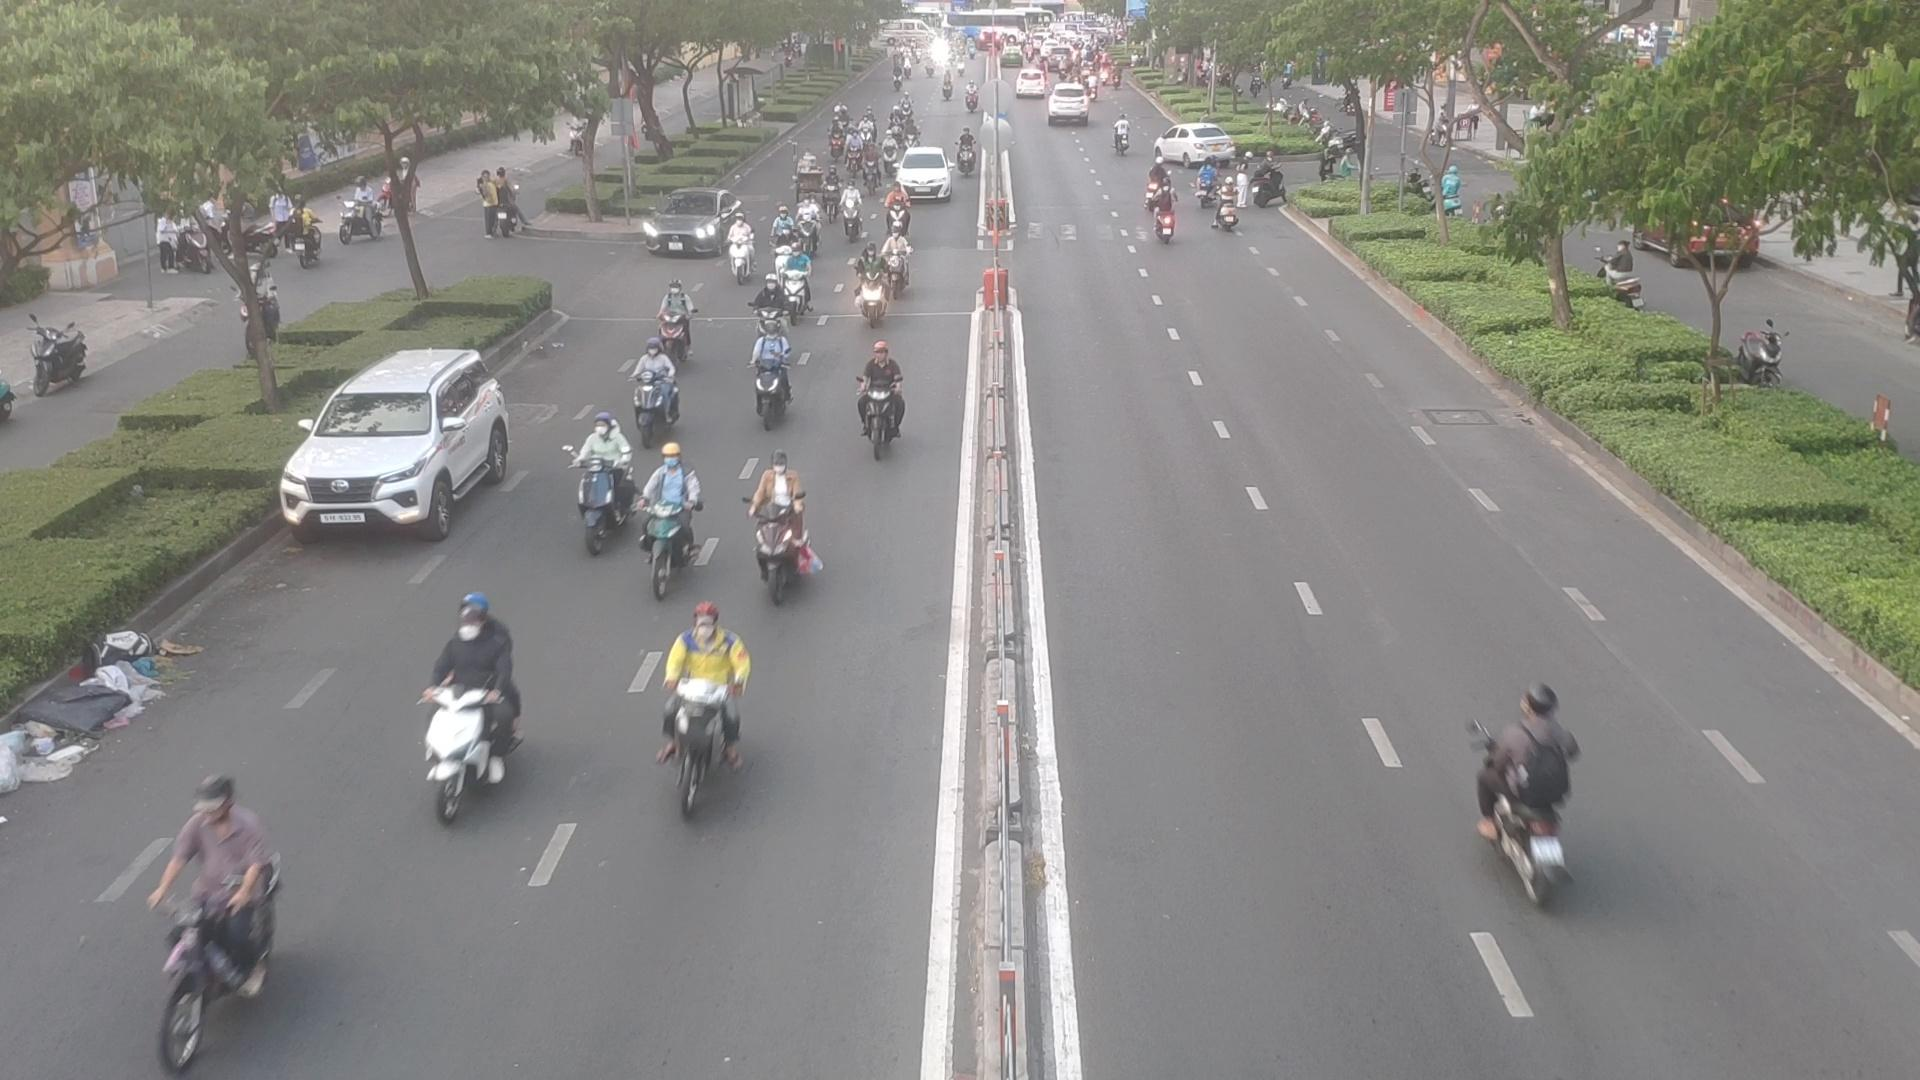car: (277, 345, 517, 539), (637, 190, 740, 258), (1156, 117, 1236, 171), (894, 146, 956, 196)
motorbike: (131, 764, 266, 1080), (1480, 671, 1577, 898), (419, 601, 516, 814), (742, 440, 808, 618), (666, 607, 725, 794), (570, 406, 634, 564), (640, 443, 709, 587), (622, 345, 680, 443), (866, 345, 903, 463), (847, 237, 886, 326), (752, 319, 783, 426), (654, 280, 688, 352), (725, 215, 752, 295), (881, 229, 914, 293), (785, 243, 810, 322), (758, 278, 786, 348), (1154, 181, 1180, 243), (1217, 177, 1241, 231), (843, 178, 862, 243), (1145, 162, 1174, 206), (884, 185, 907, 237), (955, 125, 976, 178), (803, 189, 822, 247), (1196, 162, 1216, 208), (843, 133, 862, 174), (864, 146, 880, 195), (825, 170, 841, 218), (829, 117, 847, 158), (1116, 115, 1131, 157), (899, 128, 918, 160), (880, 131, 893, 171), (858, 117, 873, 146)
